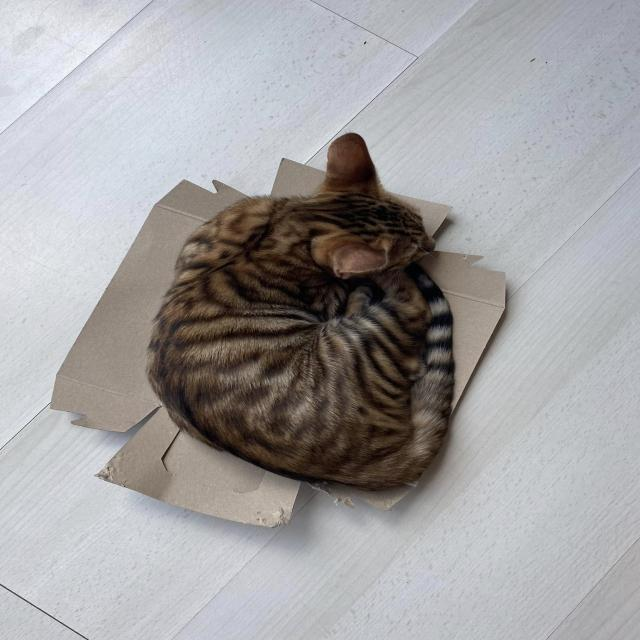Toyger: (140, 129, 461, 495)
